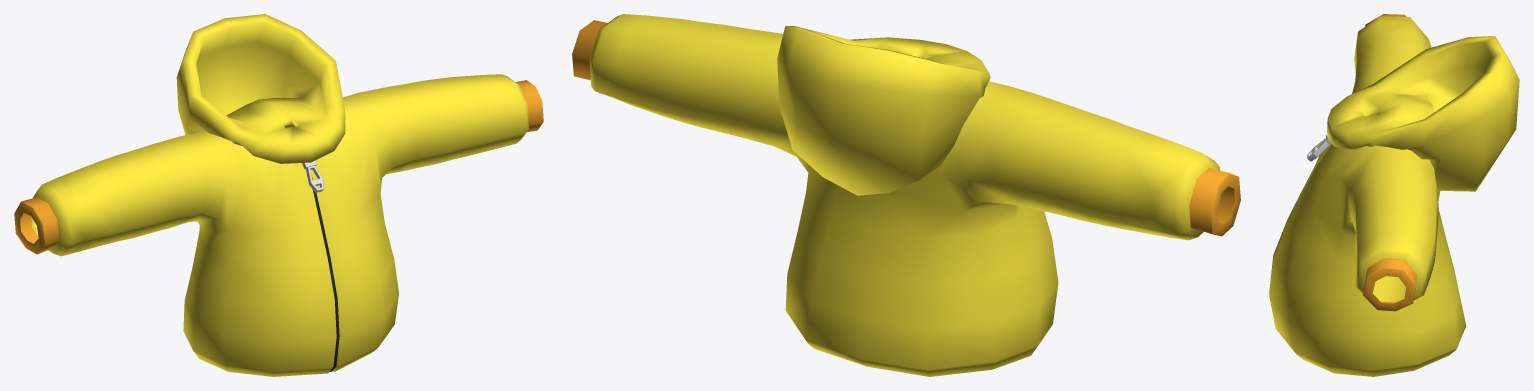
Rendered from Outerwear_Yellow_007.glb.
The picture shows the model from 3 angles, left to right: view 1: azimuth 30°, elevation 25°; view 2: azimuth 150°, elevation 25°; view 3: azimuth 270°, elevation 25°; orthographic projection. The views are drawn at different scales.
Visible parts, largest first — view 1: Outerwear_Yellow_007; view 2: Outerwear_Yellow_007; view 3: Outerwear_Yellow_007.
Part boxes in pixels (x1,y1,x2,y2): Outerwear_Yellow_007: [14, 14, 543, 376]; Outerwear_Yellow_007: [572, 14, 1240, 376]; Outerwear_Yellow_007: [1269, 14, 1519, 376].
Bounding box in the file's own units: 1.29 × 0.6763 × 0.5383.
1 material, 1 textured.
